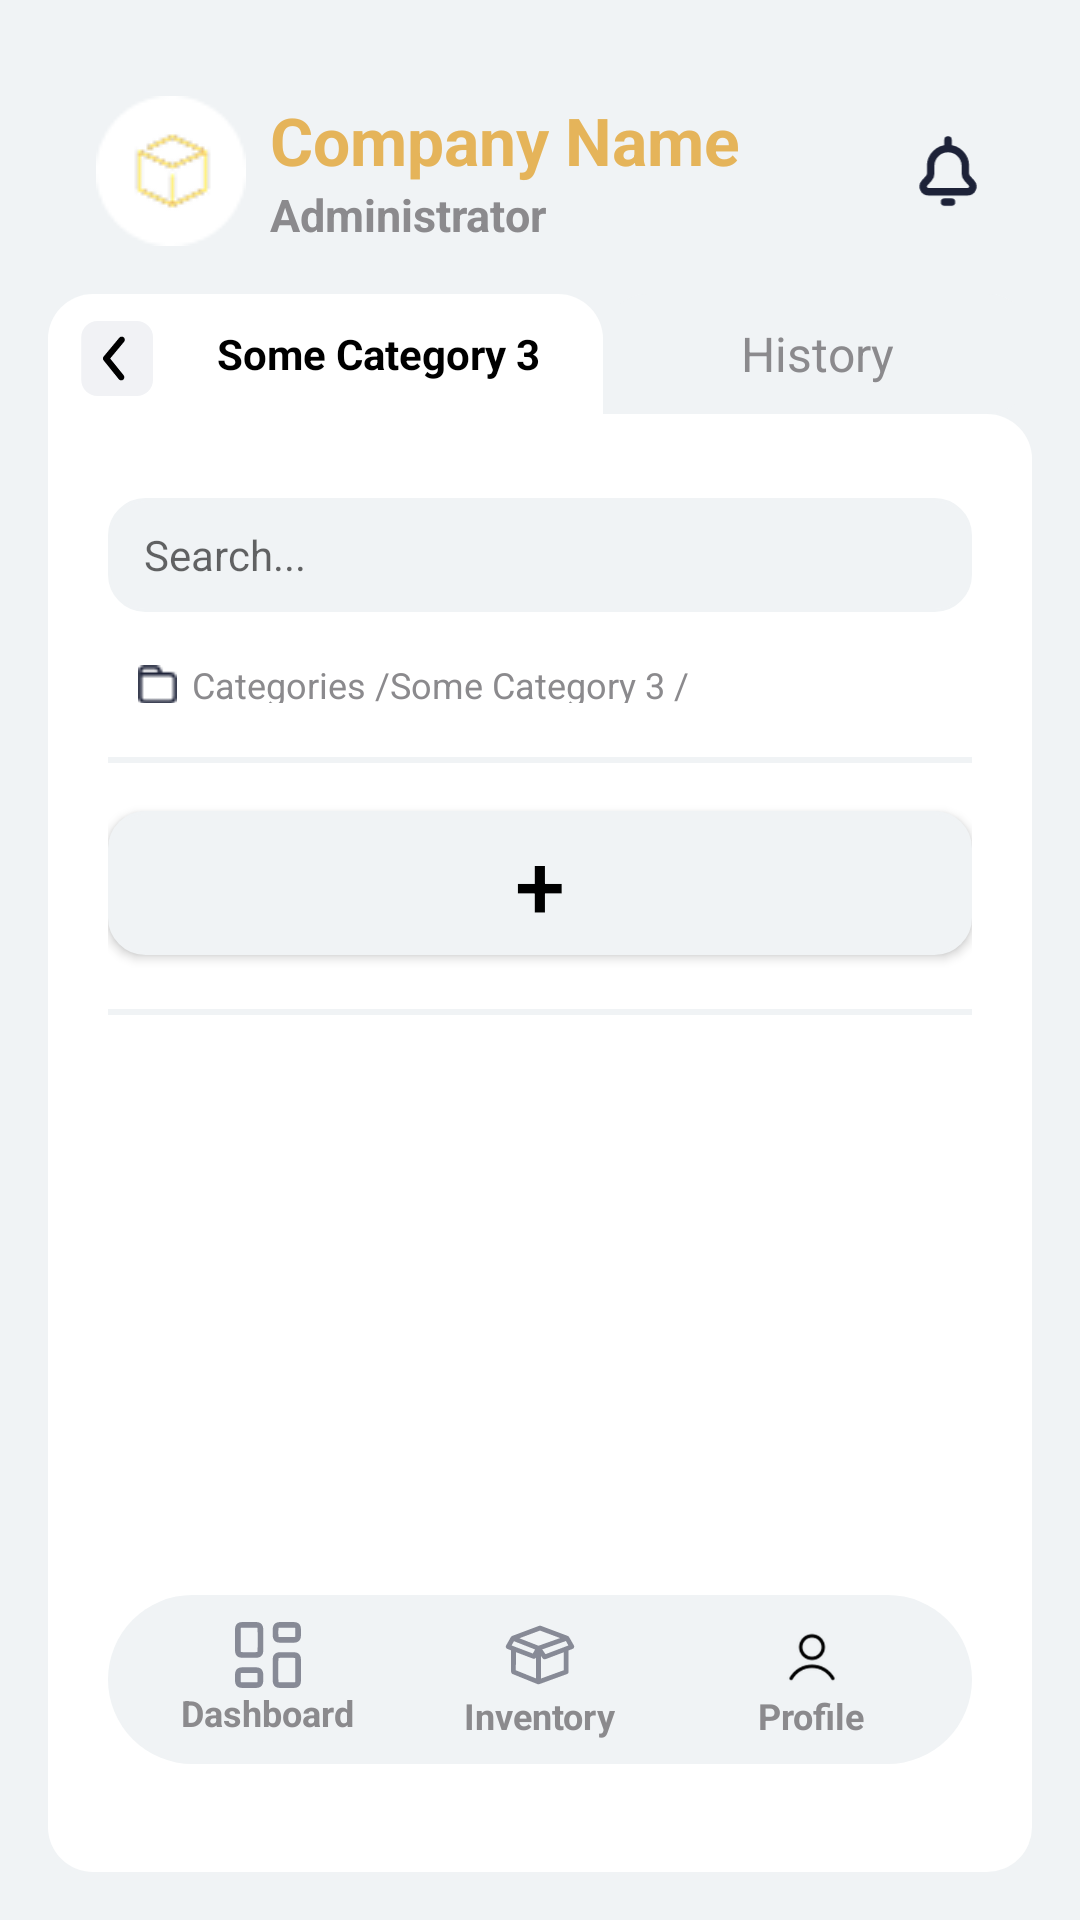

Icons on this 1080*1920 Android screen, each with the point to tap as point (x, y):
bell: point (948, 171)
box empty: point (540, 1655)
go back: point (117, 358)
person: point (812, 1657)
